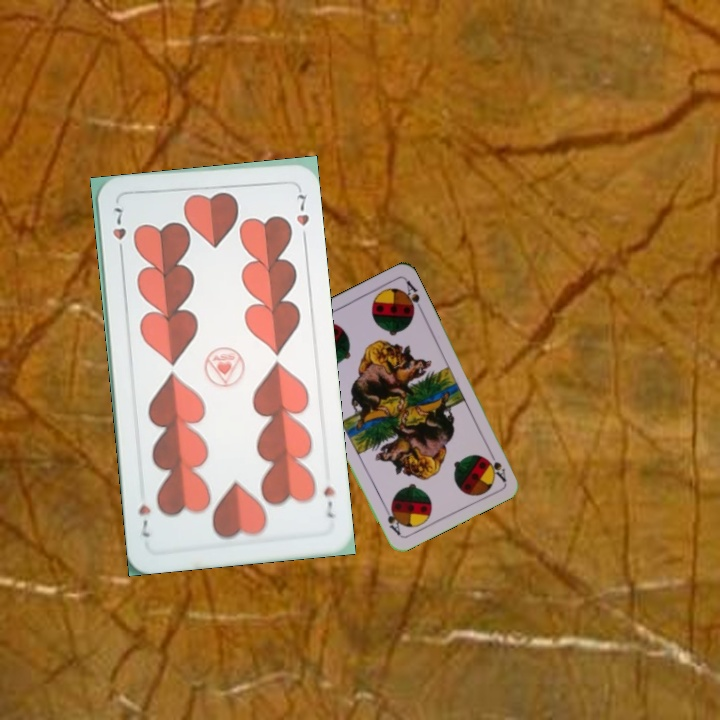H7: (109, 203, 129, 259), (319, 482, 338, 521)
SA: (483, 445, 509, 484)
